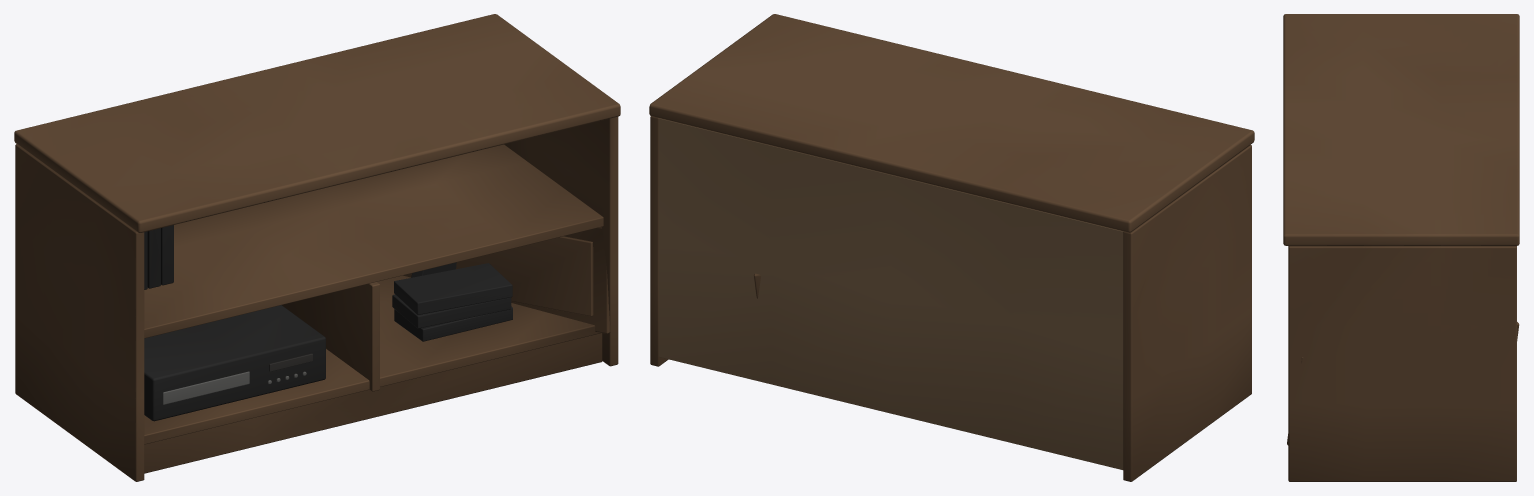
Rendered from tv_stand.glb.
3 views of the same model, side by side, from view 1: azimuth 30°, elevation 25°; view 2: azimuth 150°, elevation 25°; view 3: azimuth 270°, elevation 25° (orthographic). The views are drawn at different scales.
Parts seen in each view (by area): view 1: tv_stand; view 2: tv_stand; view 3: tv_stand.
Boxes of the visible parts, x1,y1,x2,y2 form: tv_stand: (14, 14, 620, 481); tv_stand: (649, 14, 1254, 481); tv_stand: (1283, 14, 1519, 481).
Size of the model in its own units: 1 by 0.52 by 0.4502.
